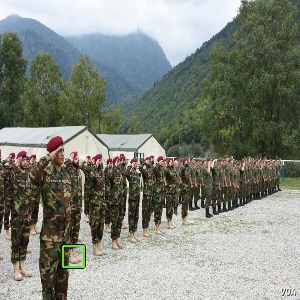square: (61, 243, 87, 271)
